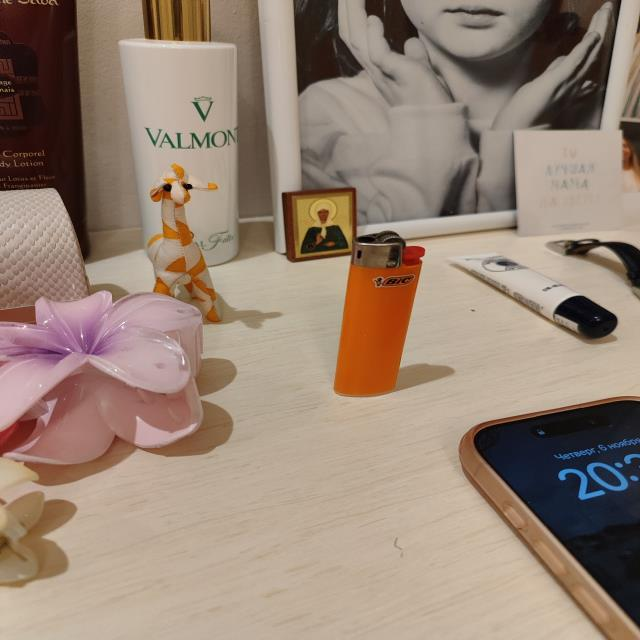lighter: (334, 232, 423, 396)
